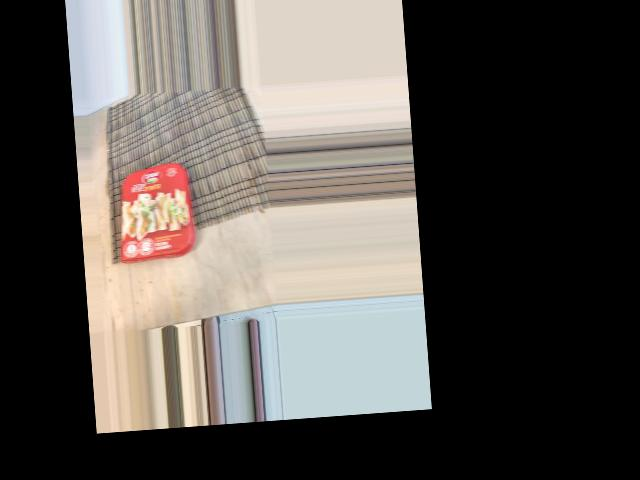cheese: (107, 159, 196, 278)
